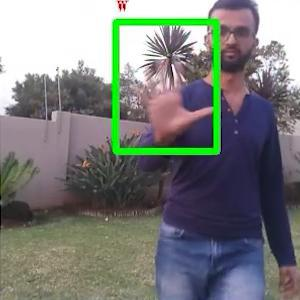follow_hand: (128, 45, 218, 140)
